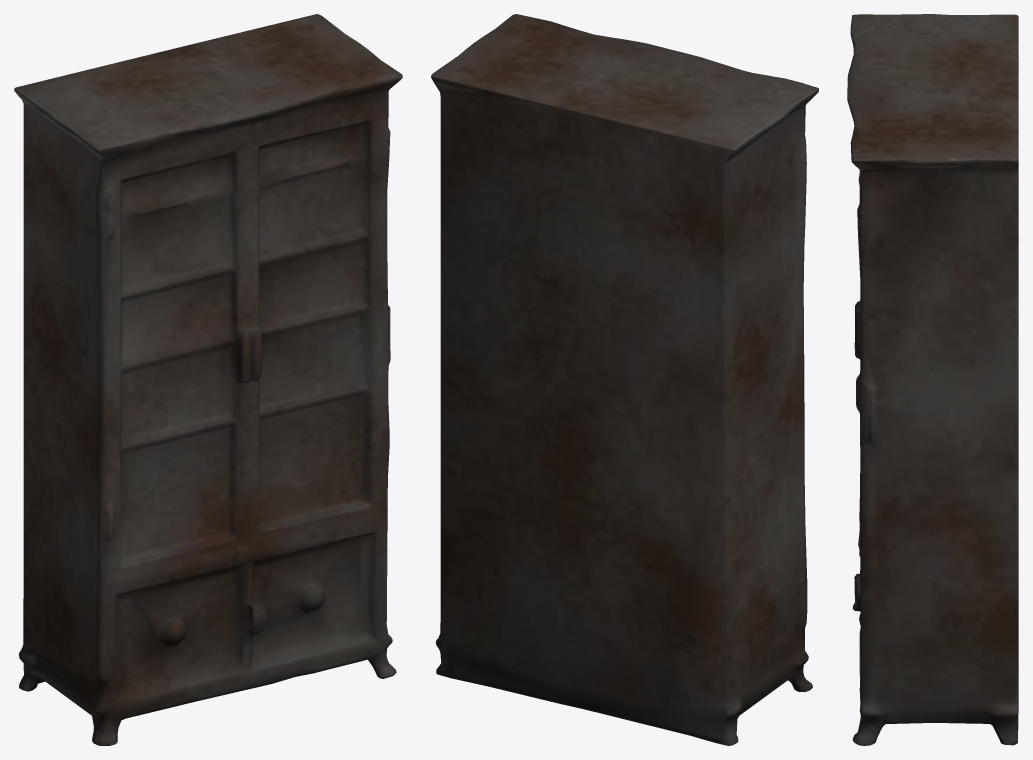
Rendered from sturdy-iron-medicine-cabinet-v001.glb.
3 views of the same model, side by side, from view 1: azimuth 30°, elevation 25°; view 2: azimuth 150°, elevation 25°; view 3: azimuth 270°, elevation 25° (orthographic). The views are drawn at different scales.
Visible parts, largest first — view 1: sturdy-iron-medicine-cabinet; view 2: sturdy-iron-medicine-cabinet; view 3: sturdy-iron-medicine-cabinet.
Part boxes in pixels (bbox=[...]): sturdy-iron-medicine-cabinet: bbox=[14, 14, 402, 745]; sturdy-iron-medicine-cabinet: bbox=[431, 14, 818, 745]; sturdy-iron-medicine-cabinet: bbox=[847, 14, 1018, 745].
Size of the model in its own units: 0.9394 by 1.76 by 0.4641.
1 material, 1 textured.
